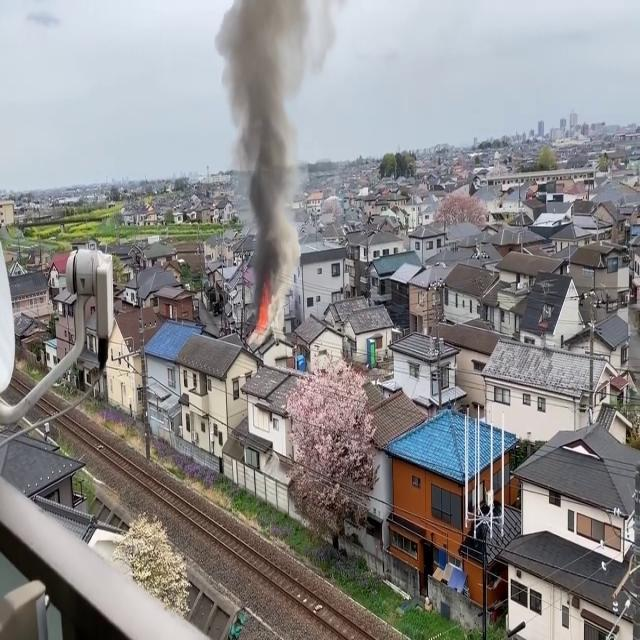Fire: (254, 293, 274, 337)
Smoke: (215, 0, 313, 319)
